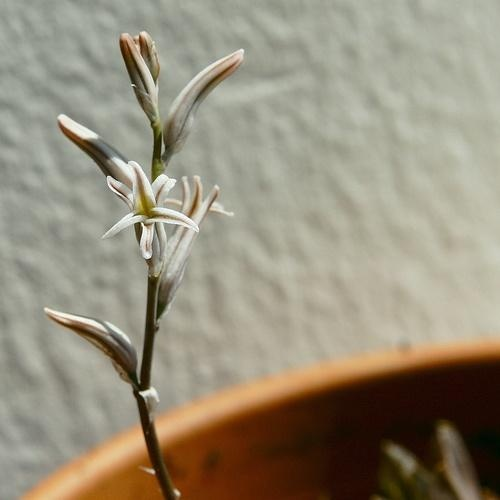pottedplant: (19, 27, 499, 498)
